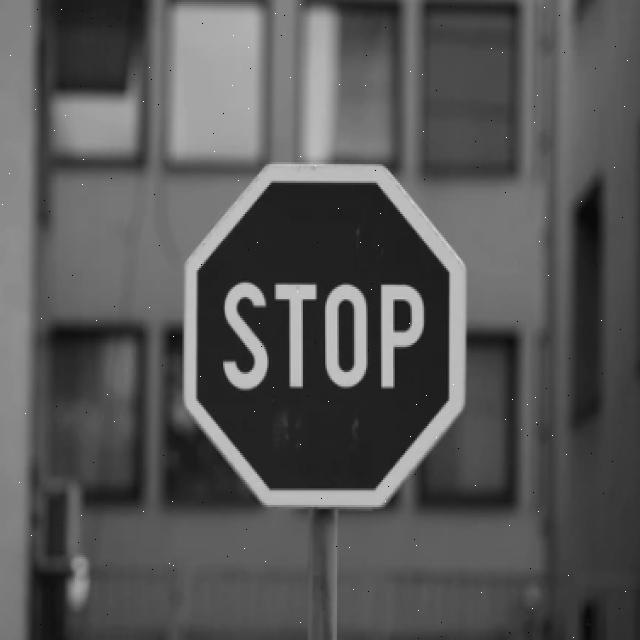Stop-signs: (185, 160, 467, 508)
